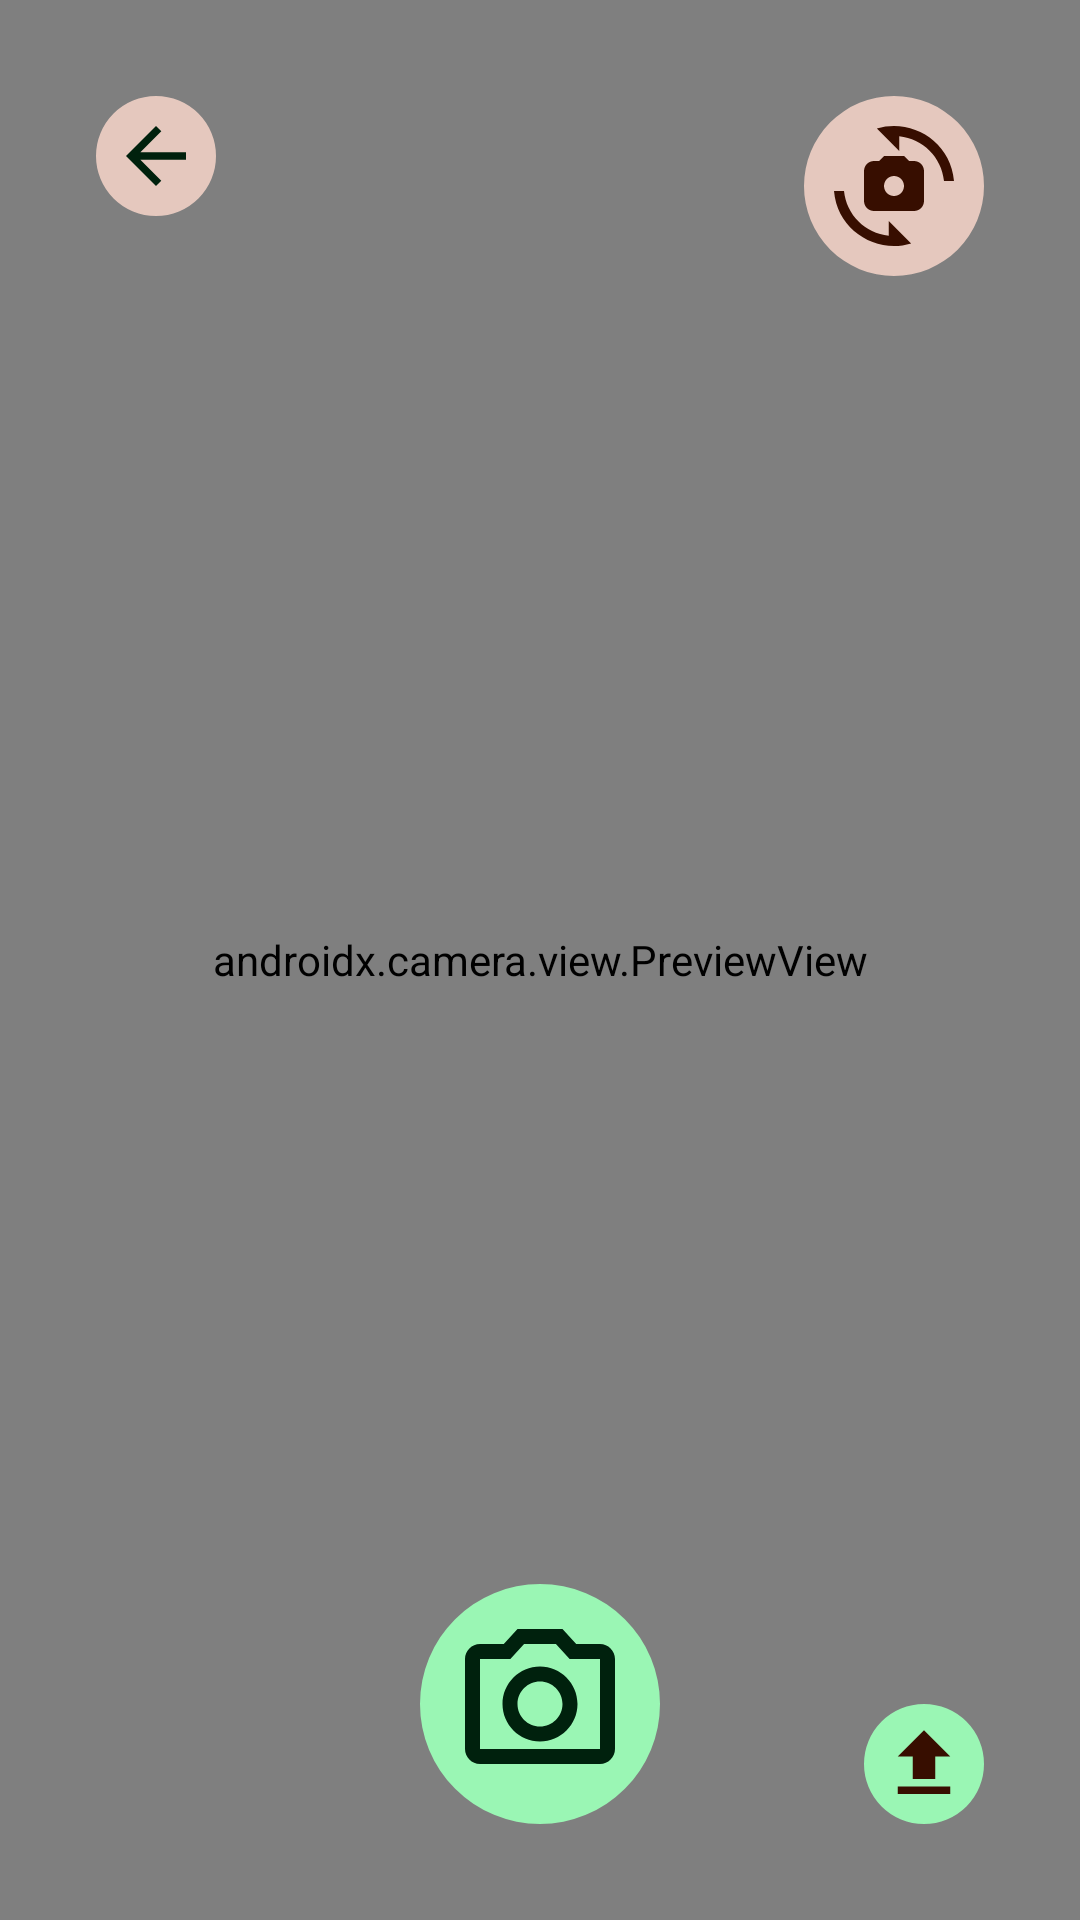

Point at icon controls on the screen. Image size 1080 × 1920, points as [x,y].
arrow back: [156,156]
cameraswitch: [894,186]
file upload: [924,1762]
